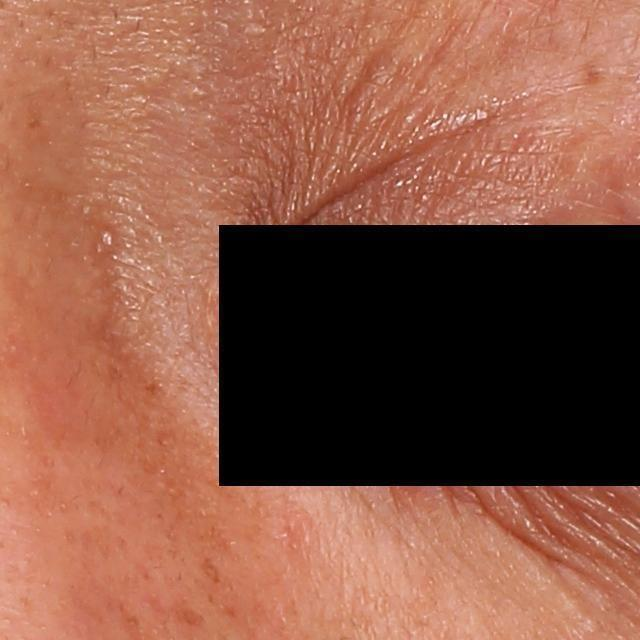comedo: (100, 228, 119, 250)
melasma: (179, 607, 212, 632), (198, 557, 223, 583)
